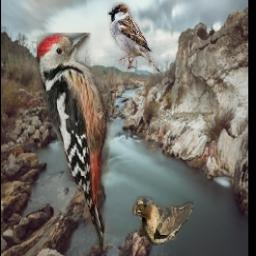Sparrow: (107, 2, 159, 72)
Swallow: (133, 197, 194, 247)
Woodpecker: (37, 34, 116, 252)
